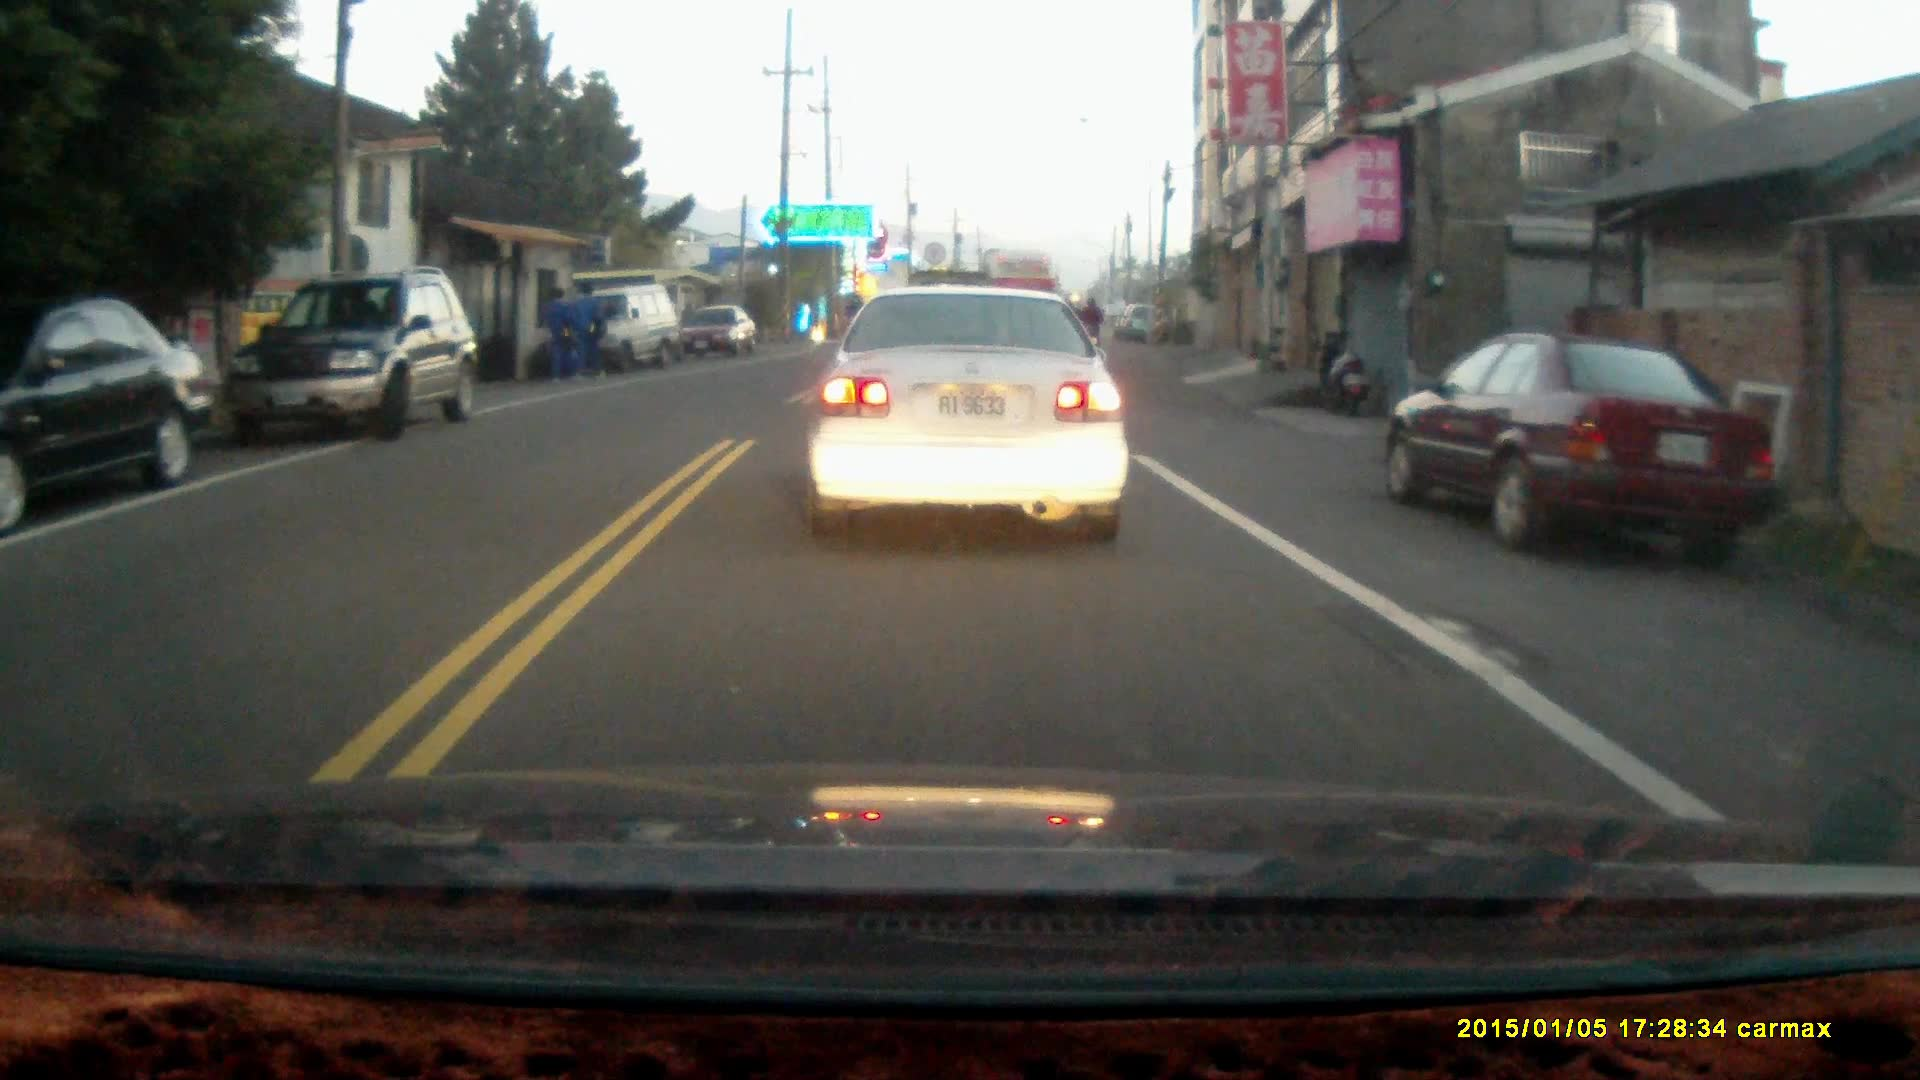pedestrian: (539, 285, 573, 385), (573, 278, 604, 383)
vehicle: (1379, 329, 1778, 561), (808, 278, 1132, 542), (1, 296, 216, 532), (221, 268, 477, 442), (569, 283, 695, 371), (674, 305, 758, 361)
